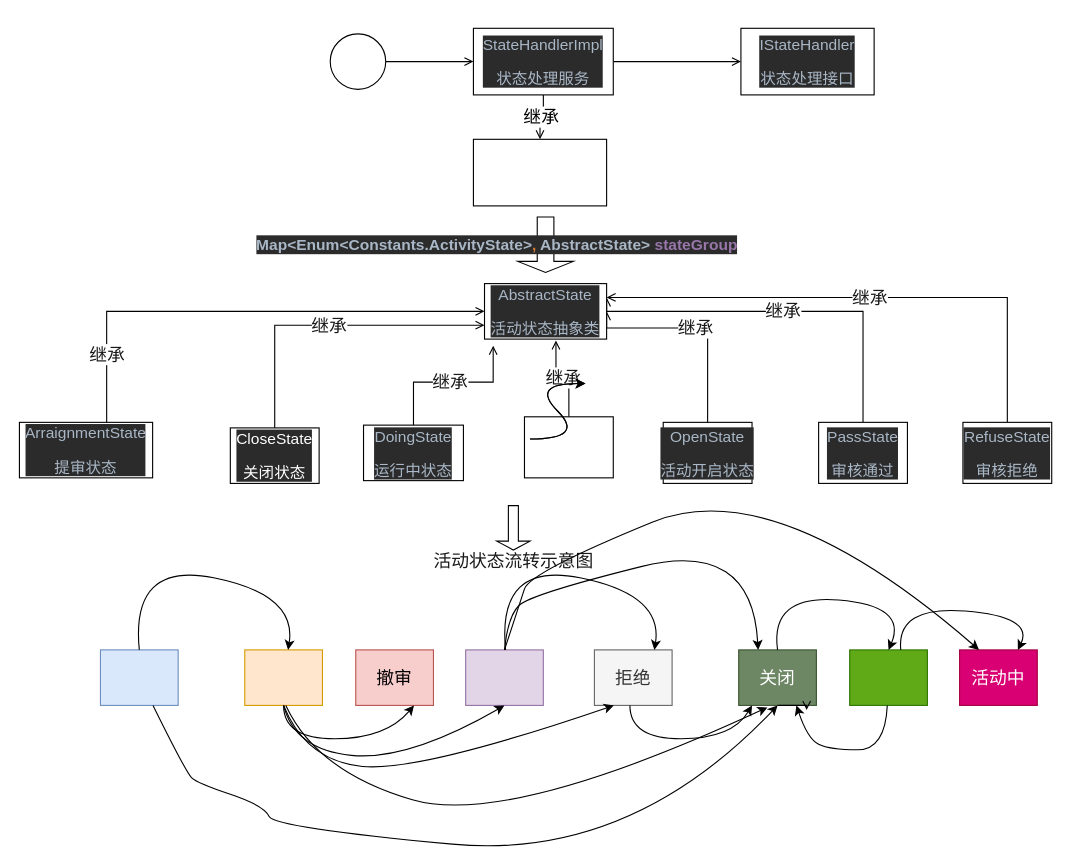
This 1071x865 diagram has some shape labels left out. Each missing label, with the centre of its shape:
EditingState 编辑状态: pixel 568 447
IStateHandler 状态流转配置: pixel 539 172
入口: pixel 357 61
开启: pixel 888 677
提审: pixel 283 677
编辑: pixel 138 677
通过: pixel 504 677
